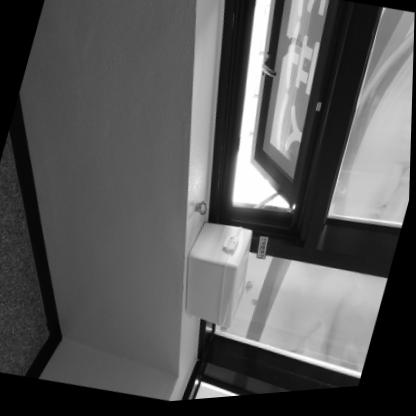DDL: (174, 218, 263, 336)
